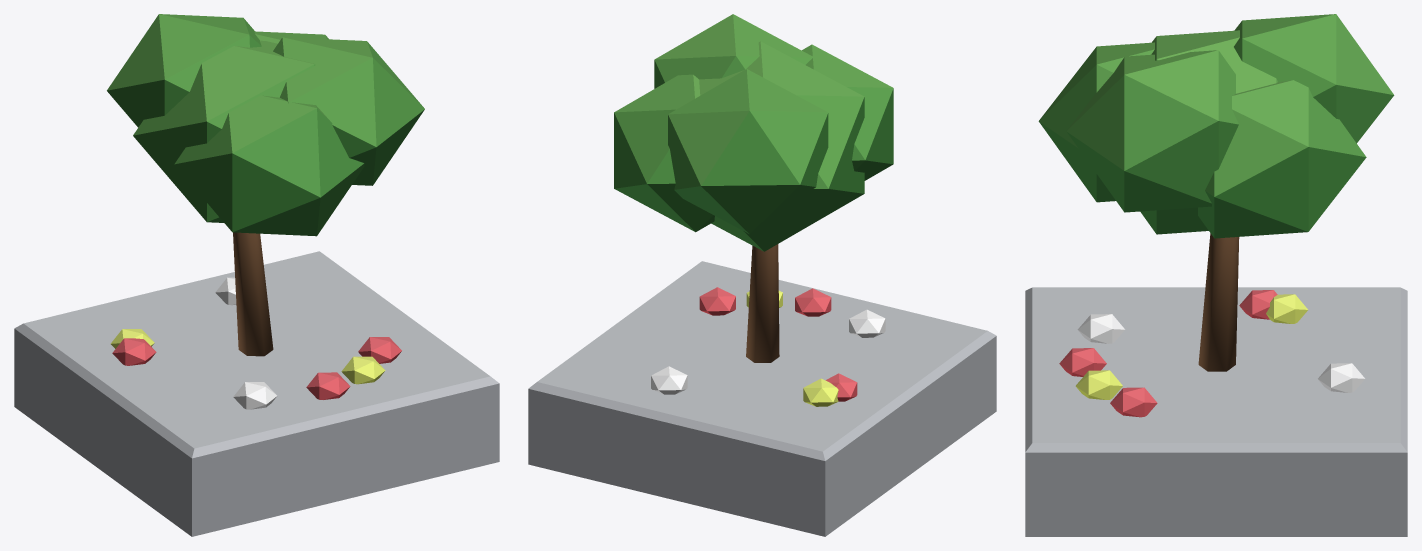
The model's file is PlanterTree_0.glb.
3 renders of one model, left to right at view 1: azimuth 30°, elevation 25°; view 2: azimuth 150°, elevation 25°; view 3: azimuth 270°, elevation 25°, orthographic. The views are drawn at different scales.
Parts seen in each view (by area): view 1: PlanterTree_0; view 2: PlanterTree_0; view 3: PlanterTree_0.
Part boxes in pixels (box(x1,y1,x2,y2)): PlanterTree_0: box(14, 14, 499, 536); PlanterTree_0: box(528, 14, 996, 536); PlanterTree_0: box(1025, 14, 1407, 536).
Bounding box in the file's own units: 8 × 9.69 × 8.
Materials: 1 (1 with a texture image).
